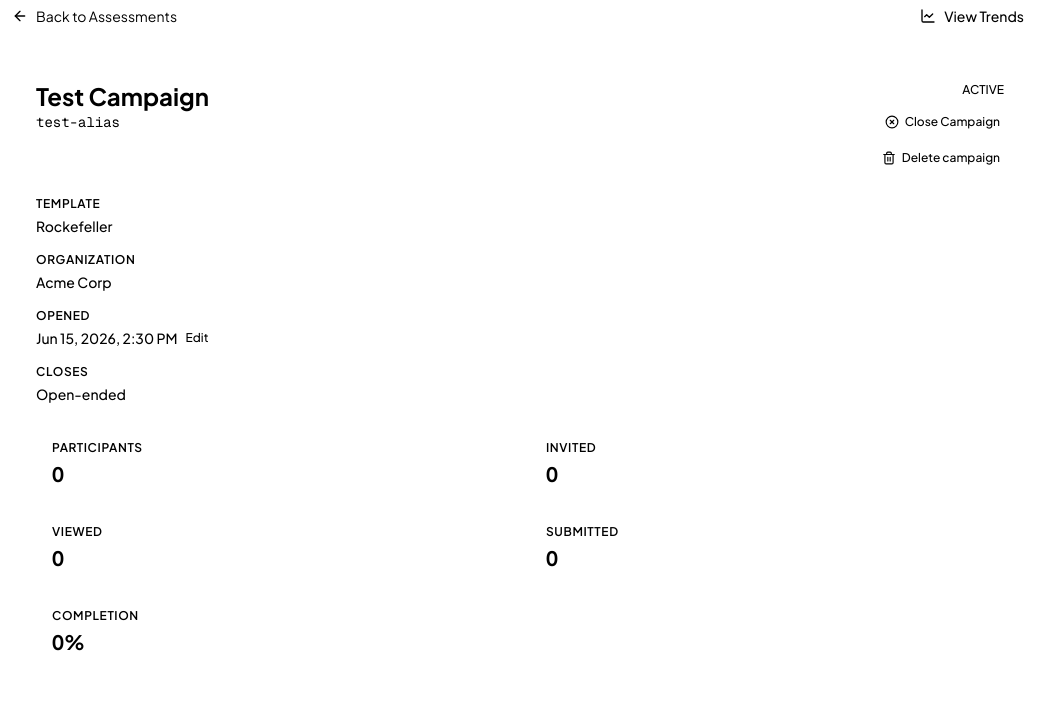
it: CampaignDetail — openAt editor TZ round-trip (#1) › Cancel button resets openAt editor to LOCAL formatted value
Click the button with test id "edit-openAt" at (197,338), box [186,330,208,346]
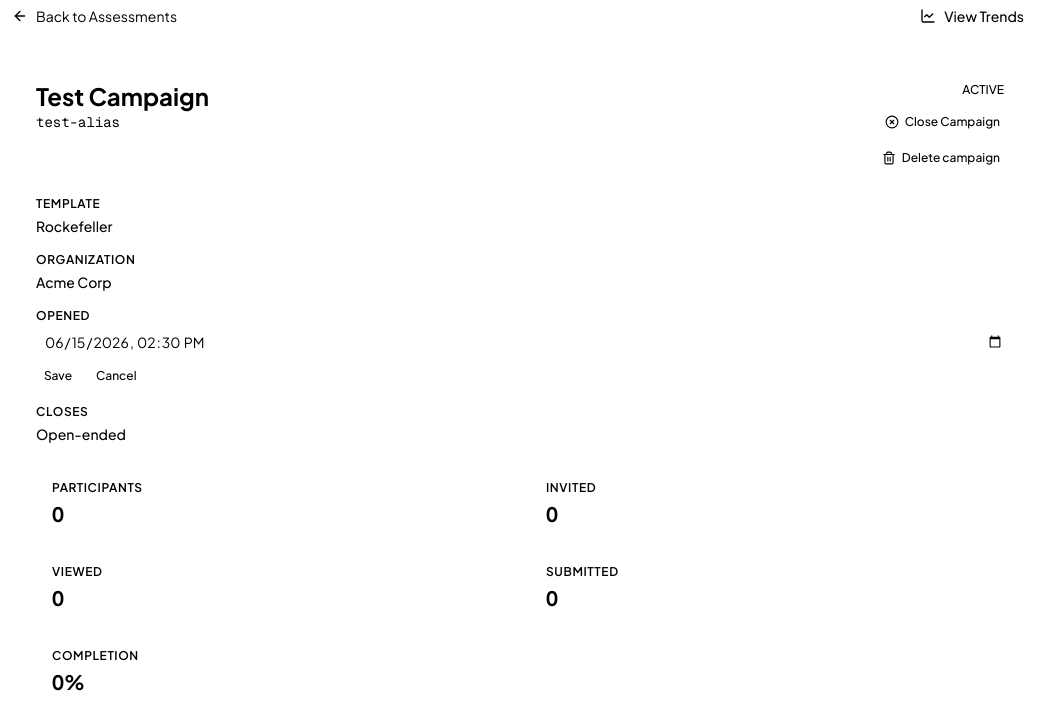
// Change the value
Replace the text in the field showing "2026-06-15T14:30" with "2030-01-01T12:00" at (524,342), box [36,328,1012,356]
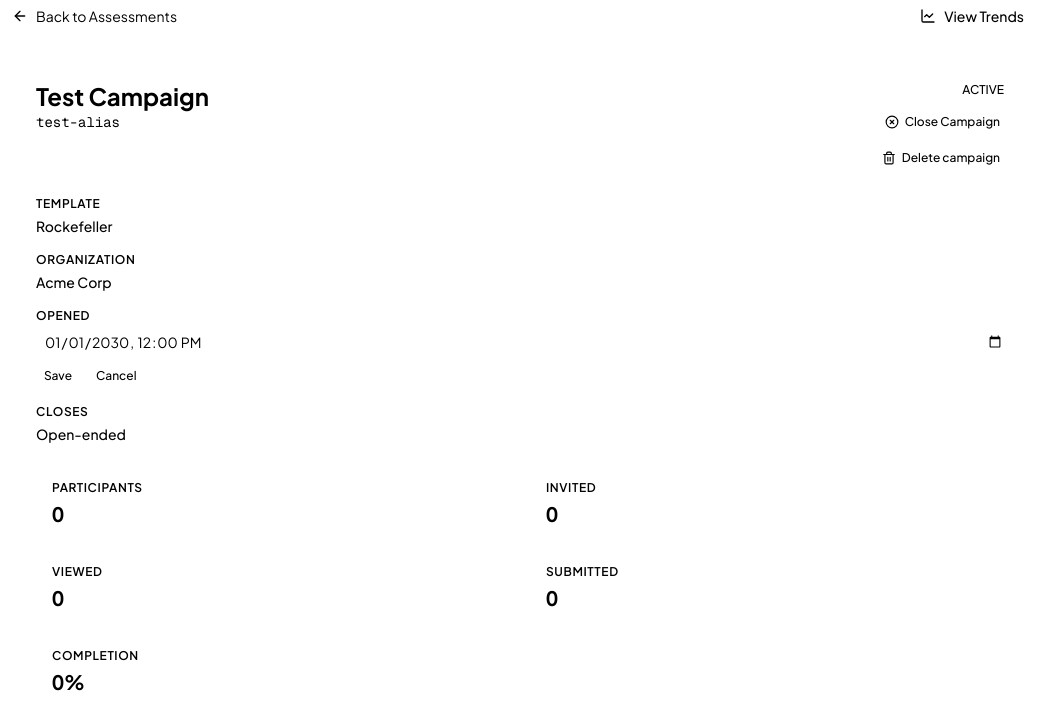
// Cancel — should reset to LOCAL value
Click the button "Cancel" at (116,376), box [88,364,144,388]
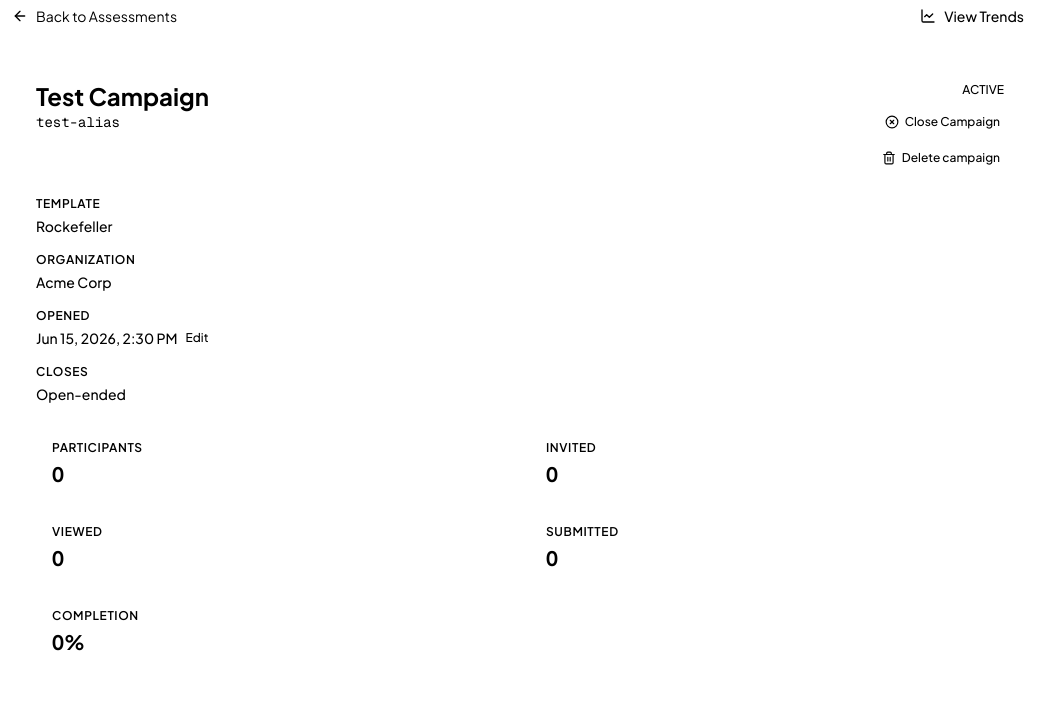
Click the button with test id "edit-openAt" at (197,338), box [186,330,208,346]
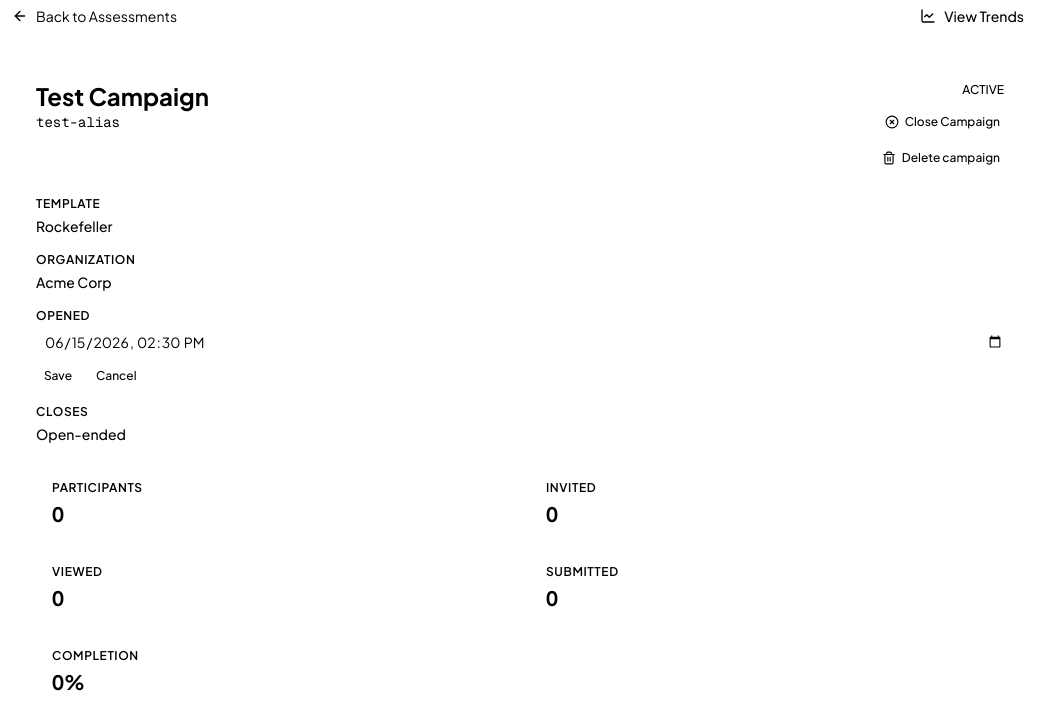
Expected: the field showing "2026-06-15T14:30" holds "2026-06-15T14:30", [36,328,1012,356]
